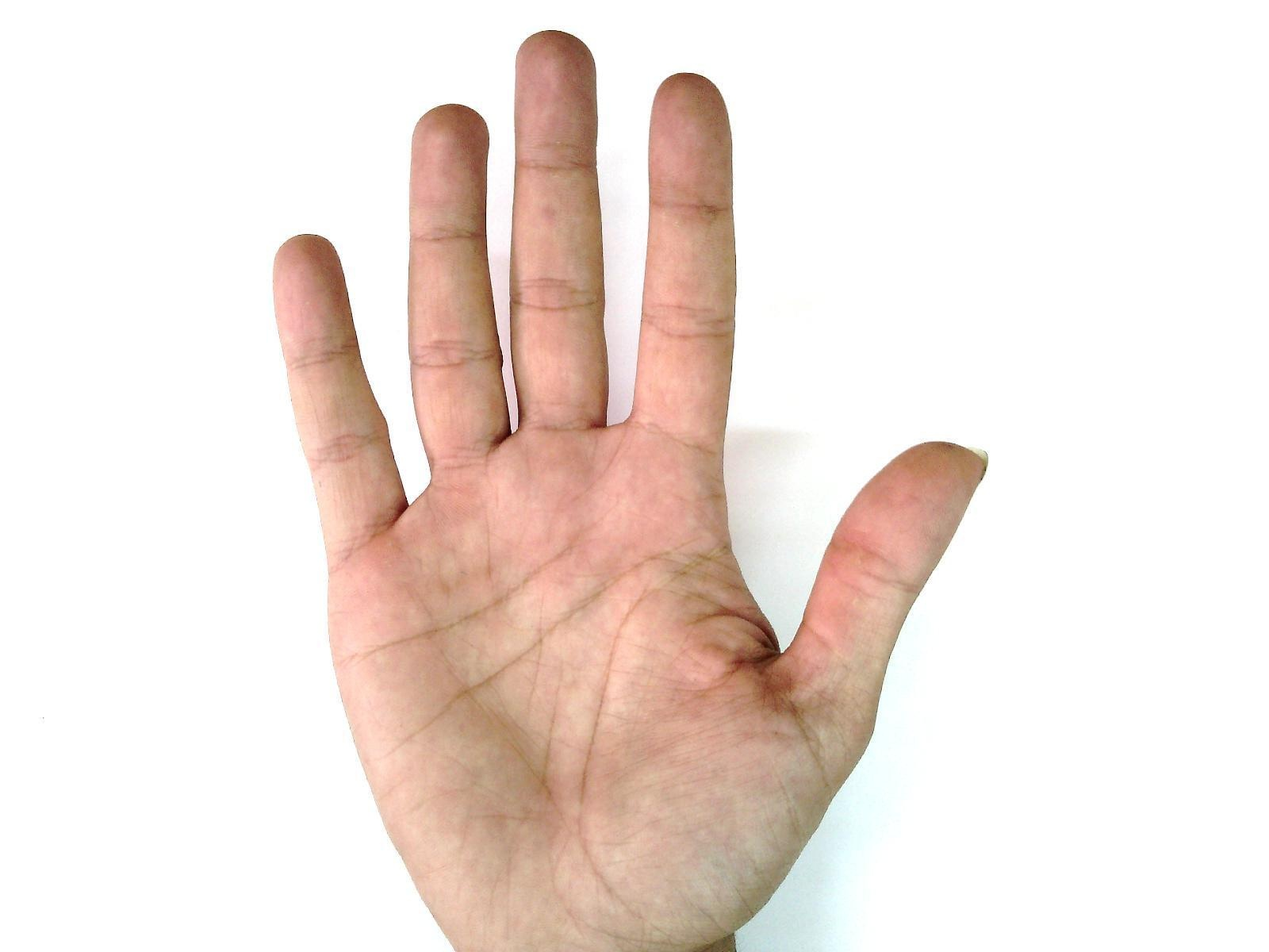open_palm: (268, 29, 991, 951)
